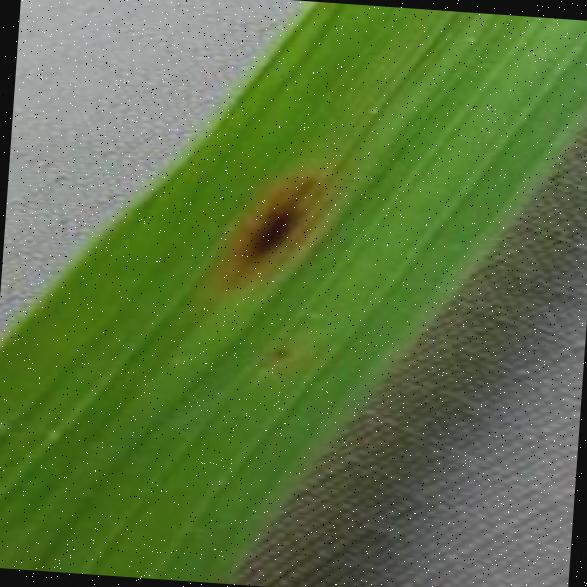Brown_Spot: (190, 148, 348, 304), (252, 332, 304, 365)
